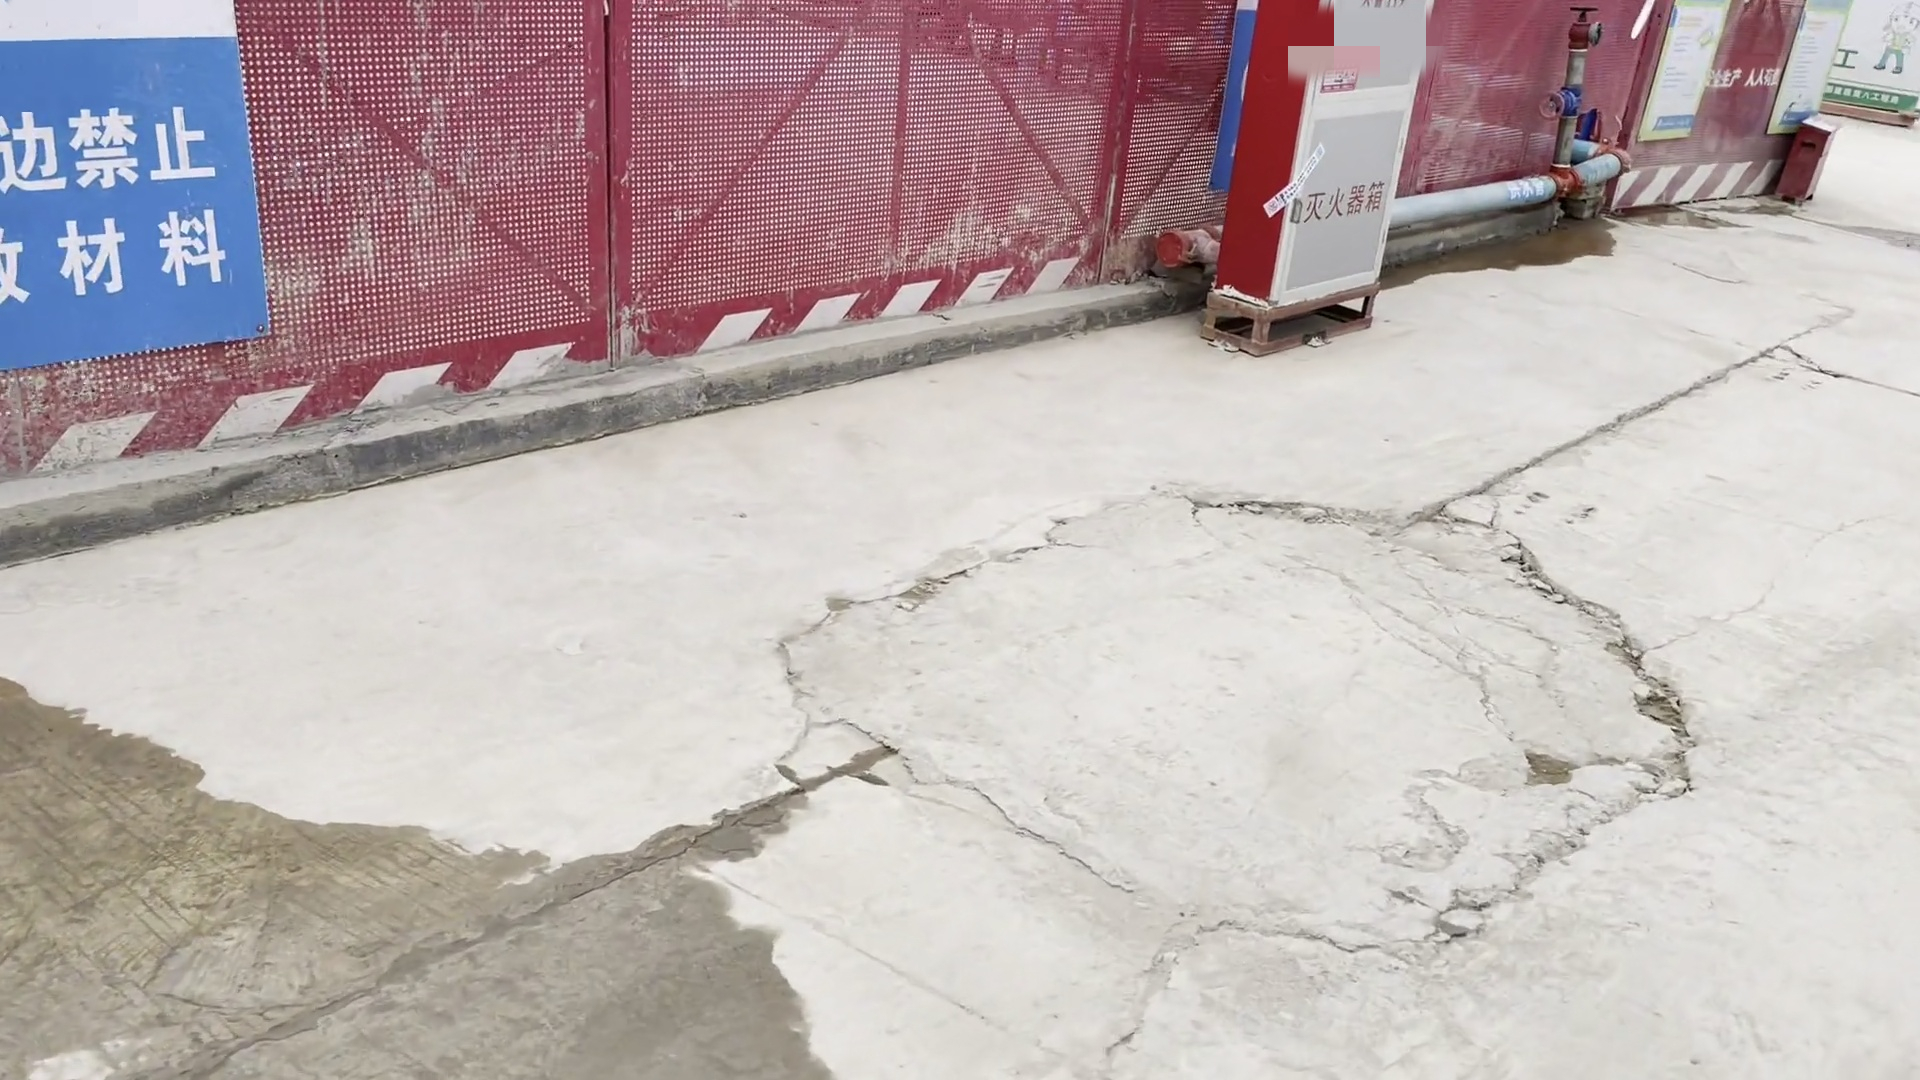fence: (11, 5, 613, 483), (613, 1, 1116, 371), (1402, 1, 1654, 204), (1120, 1, 1242, 239)
slogan: (1, 26, 241, 343), (1294, 157, 1396, 235)
